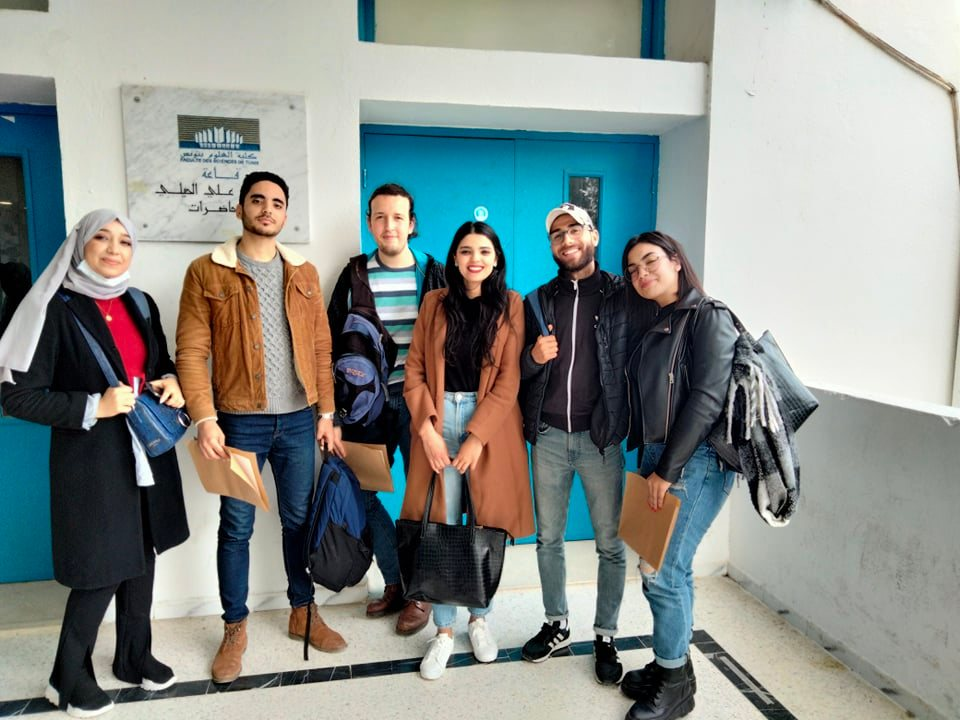mask_weared_incorrect: (87, 226, 133, 285)
without_mask: (245, 191, 287, 234), (627, 250, 667, 294), (547, 221, 587, 264), (456, 245, 497, 281), (372, 212, 411, 245)
